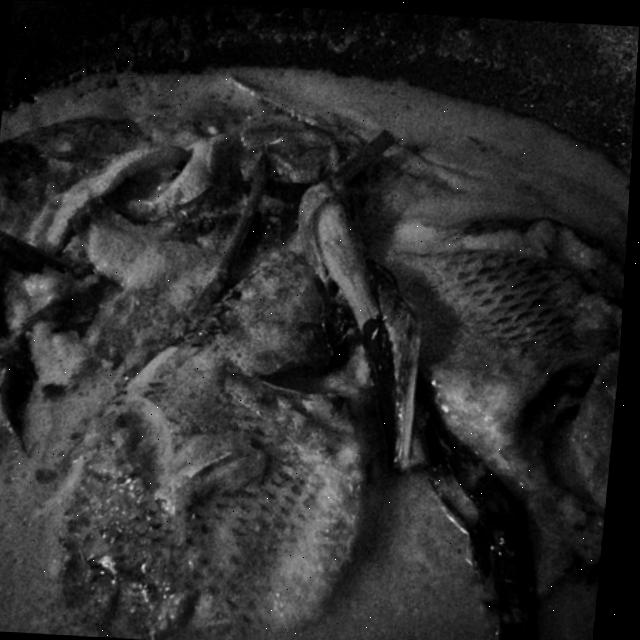熟制海鲜: (0, 68, 627, 640)
